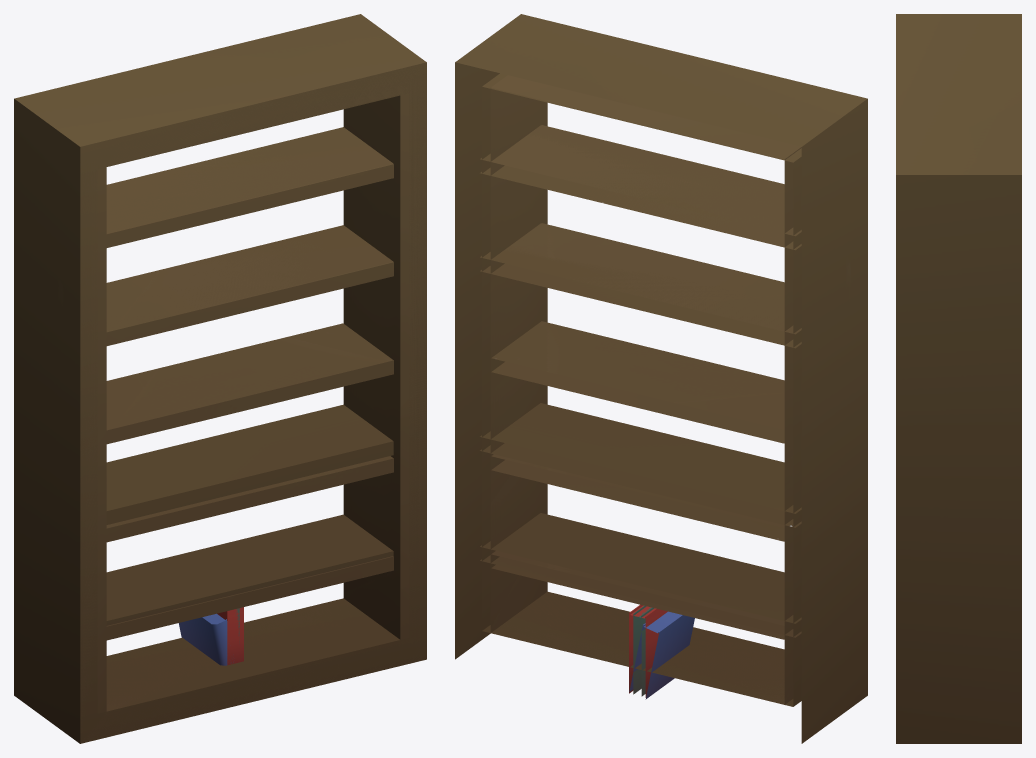
Rendered from Obj_casamagolibrero.fbx.
The picture shows the model from 3 angles, left to right: view 1: azimuth 30°, elevation 25°; view 2: azimuth 150°, elevation 25°; view 3: azimuth 270°, elevation 25°; orthographic projection. The views are drawn at different scales.
Parts seen in each view (by area): view 1: Obj_casamagolibrero_estante2, Obj_casamagolibrero_estante1, Obj_casamagolibrero_libro2, Obj_casamagolibrero_libro3; view 2: Obj_casamagolibrero_estante2, Obj_casamagolibrero_estante1, Obj_casamagolibrero_libro2, Obj_casamagolibrero_libro3, Obj_casamagolibrero_libro1; view 3: Obj_casamagolibrero_estante2.
Boxes of the visible parts, x1,y1,x2,y2 form: Obj_casamagolibrero_estante2: (14,14,426,743); Obj_casamagolibrero_estante1: (80,62,426,743); Obj_casamagolibrero_libro2: (178,613,233,665); Obj_casamagolibrero_libro3: (217,607,243,665); Obj_casamagolibrero_estante2: (455,14,867,743); Obj_casamagolibrero_estante1: (490,75,801,704); Obj_casamagolibrero_libro2: (629,611,694,699); Obj_casamagolibrero_libro3: (629,604,667,697); Obj_casamagolibrero_libro1: (633,605,654,696); Obj_casamagolibrero_estante2: (896,14,1021,743).
Bounding box in the file's own units: 2.05 × 3.38 × 0.6746.
